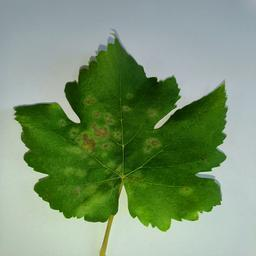Powdery-Mildew: (68, 185, 107, 217), (78, 123, 111, 157), (84, 93, 101, 110), (122, 93, 139, 109), (145, 136, 161, 153), (178, 184, 195, 200), (66, 163, 82, 179)
